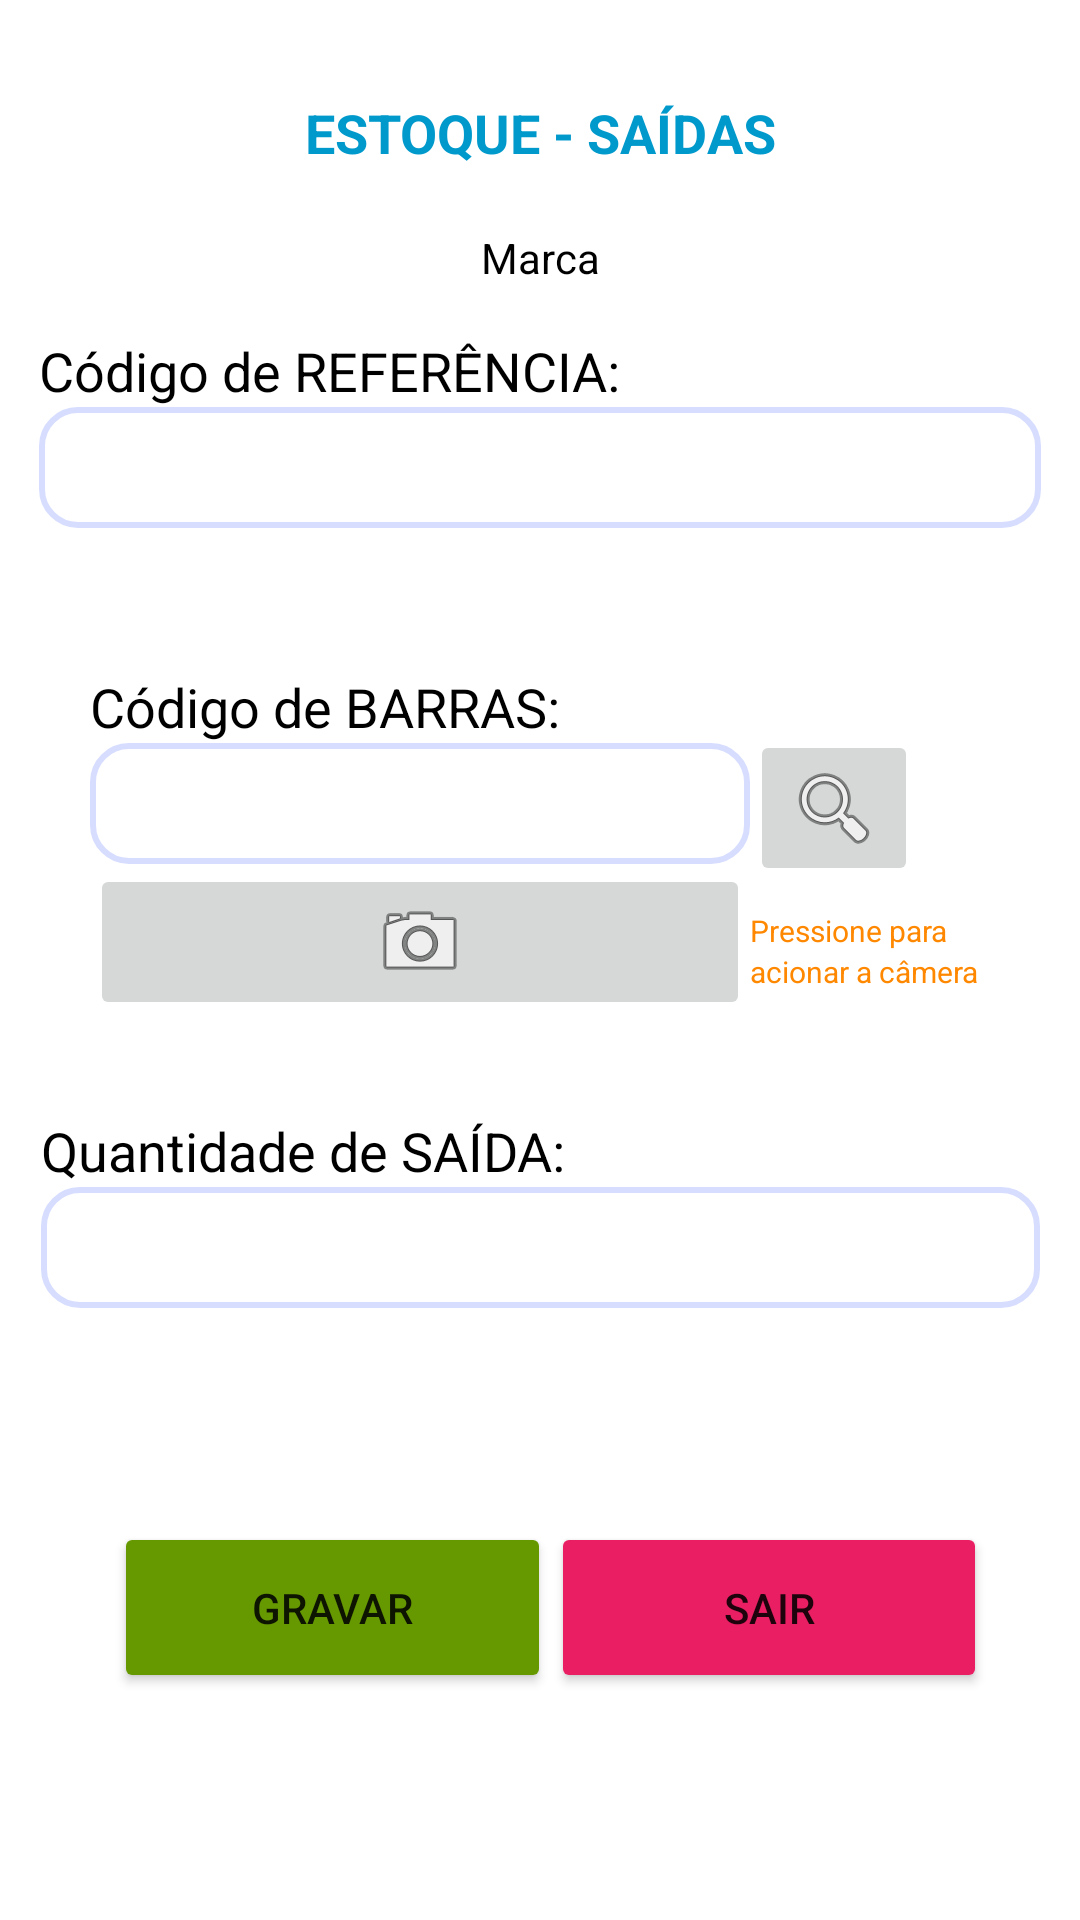

Icons on this 1080px x 1920px Android screen, each with the point to tap as (x=x, y=y):
search: (x=834, y=808)
